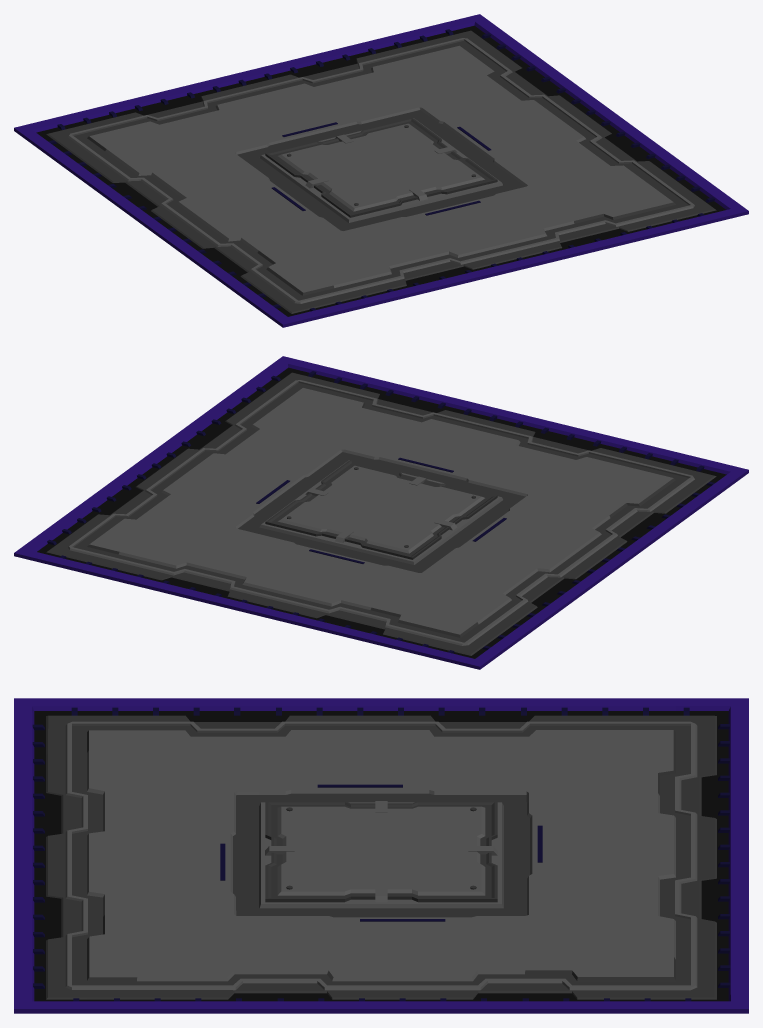
The picture shows the model from 3 angles, top to bottom: view 1: azimuth 30°, elevation 25°; view 2: azimuth 150°, elevation 25°; view 3: azimuth 270°, elevation 25°; orthographic projection. The views are drawn at different scales.
Visible parts, largest first — view 1: mergedBlocks(Clone); view 2: mergedBlocks(Clone); view 3: mergedBlocks(Clone).
Boxes of the visible parts, x1=… form: mergedBlocks(Clone): x1=14, y1=14, x2=748, y2=327; mergedBlocks(Clone): x1=14, y1=356, x2=748, y2=669; mergedBlocks(Clone): x1=14, y1=698, x2=748, y2=1013.
Size of the model in its own units: 6 by 0.1135 by 6.
